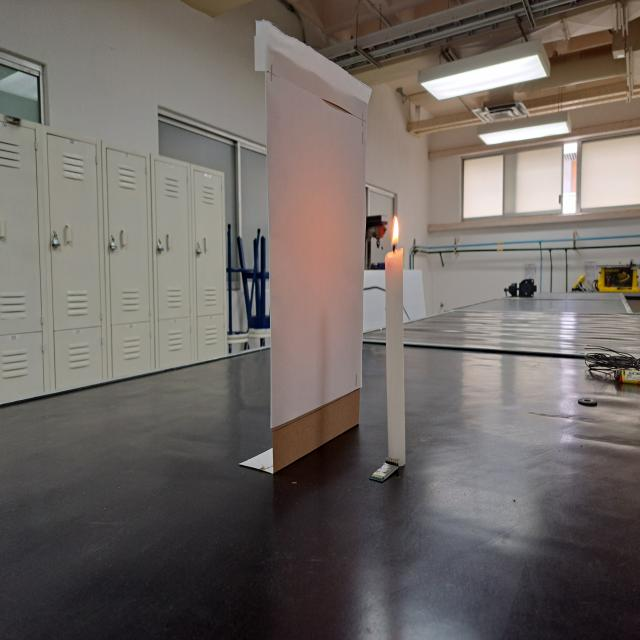candle: (380, 210, 412, 463)
wall: (265, 22, 367, 474)
